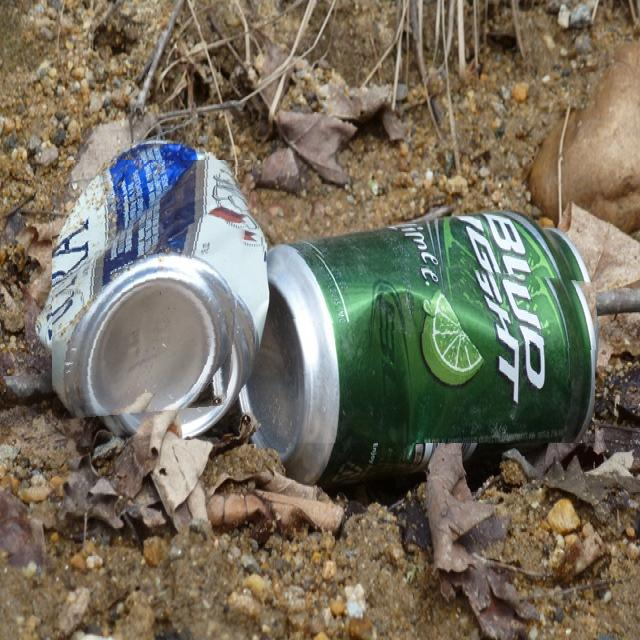Cans: (272, 249, 596, 443), (52, 160, 255, 423)
